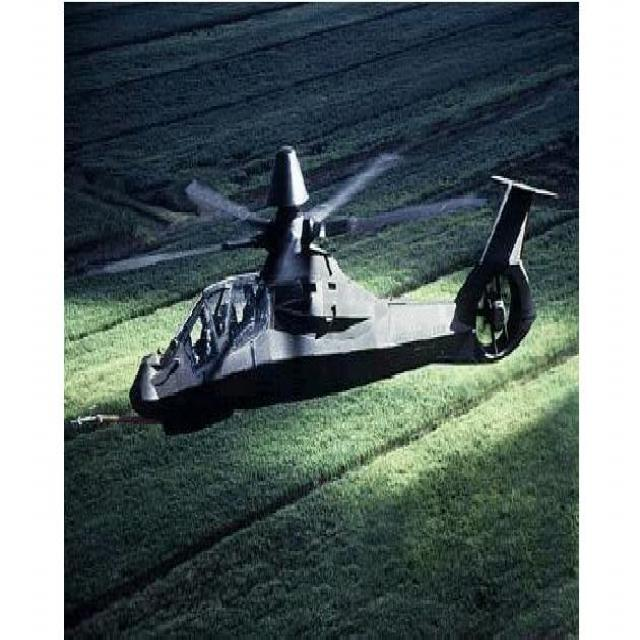MIL_HELO: (103, 137, 559, 453)
